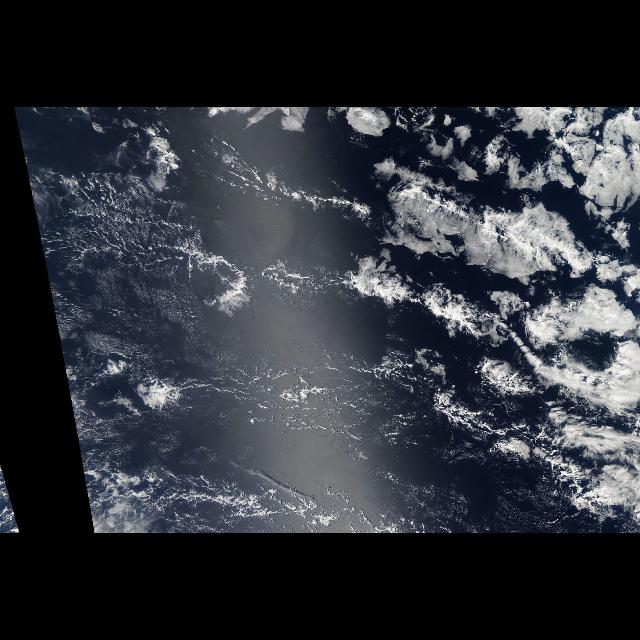Sugar: (26, 172, 218, 370)
